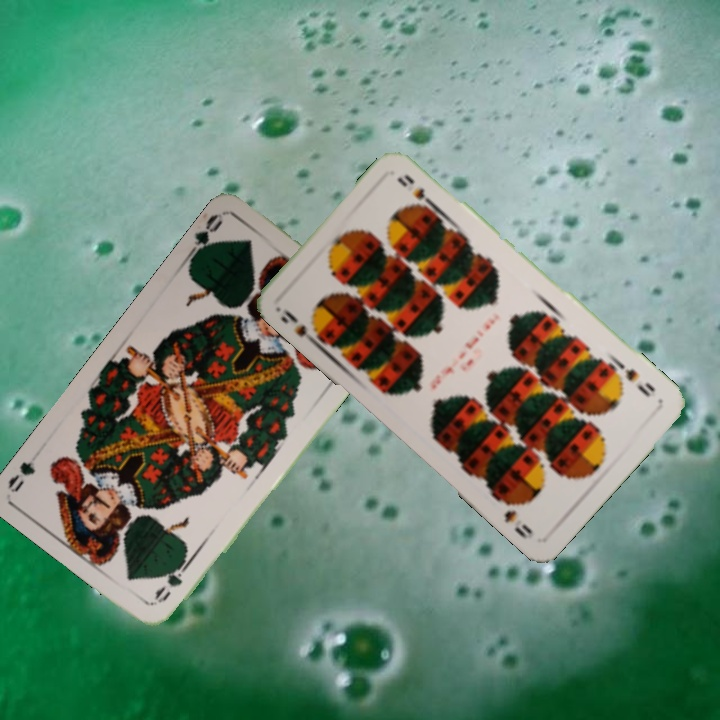GO: (181, 210, 226, 266), (150, 552, 195, 606)
S9: (273, 304, 325, 350), (611, 364, 658, 400)
